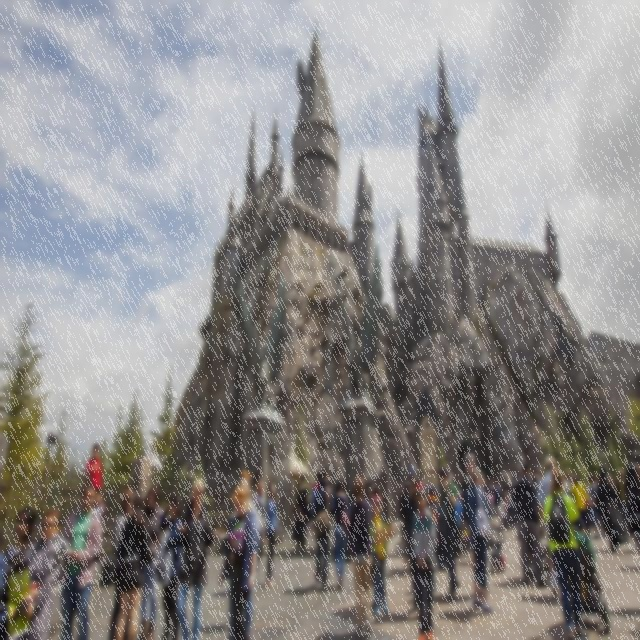pessoa: (540, 464, 592, 640), (5, 506, 71, 640), (176, 478, 222, 640), (58, 480, 104, 640), (111, 488, 152, 639), (226, 476, 262, 640), (536, 454, 574, 600), (227, 484, 260, 640), (462, 464, 495, 618), (138, 486, 170, 640), (511, 460, 548, 588), (460, 451, 490, 602), (108, 488, 137, 640), (348, 474, 373, 638), (411, 486, 437, 640), (158, 494, 184, 640), (403, 473, 428, 612), (310, 466, 336, 593), (436, 467, 460, 602), (369, 494, 395, 618), (594, 465, 622, 553), (250, 470, 266, 594), (333, 478, 350, 592), (264, 478, 280, 591), (348, 469, 378, 522), (570, 472, 592, 538), (291, 474, 308, 553), (92, 486, 106, 570), (400, 482, 412, 576), (582, 473, 600, 535), (420, 478, 444, 522), (625, 462, 640, 532), (586, 472, 601, 540), (479, 472, 496, 532), (600, 462, 628, 498), (451, 472, 462, 558), (85, 442, 103, 492), (489, 477, 504, 533), (615, 469, 629, 526), (504, 482, 520, 531), (367, 482, 385, 522), (489, 538, 507, 574), (305, 492, 314, 544), (427, 484, 438, 524), (408, 466, 426, 490), (312, 470, 322, 510), (498, 506, 511, 533), (559, 468, 574, 490), (528, 472, 542, 495), (536, 467, 544, 492), (256, 480, 265, 502), (240, 470, 252, 486), (338, 472, 347, 492), (431, 567, 438, 592), (634, 462, 640, 474)
